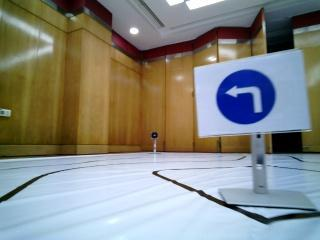left: (193, 61, 308, 131)
